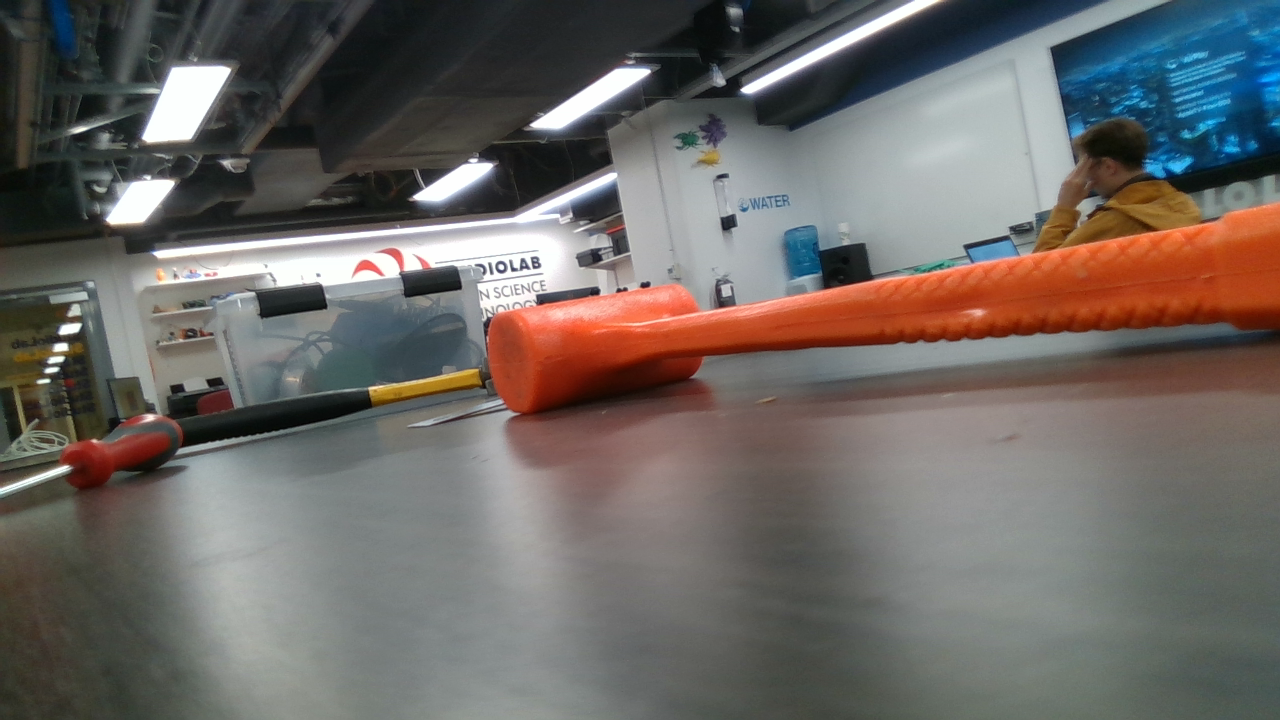Orange Hammer: (485, 204, 1280, 416)
